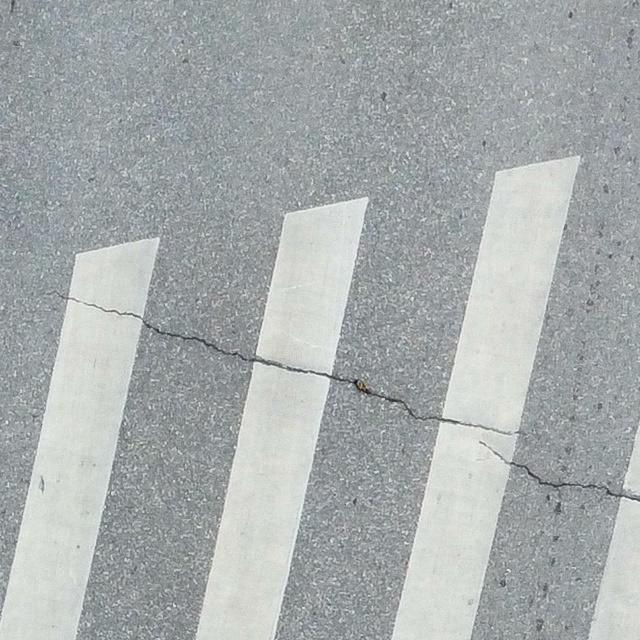TransverseCrack: (45, 289, 524, 438), (477, 437, 640, 503)
